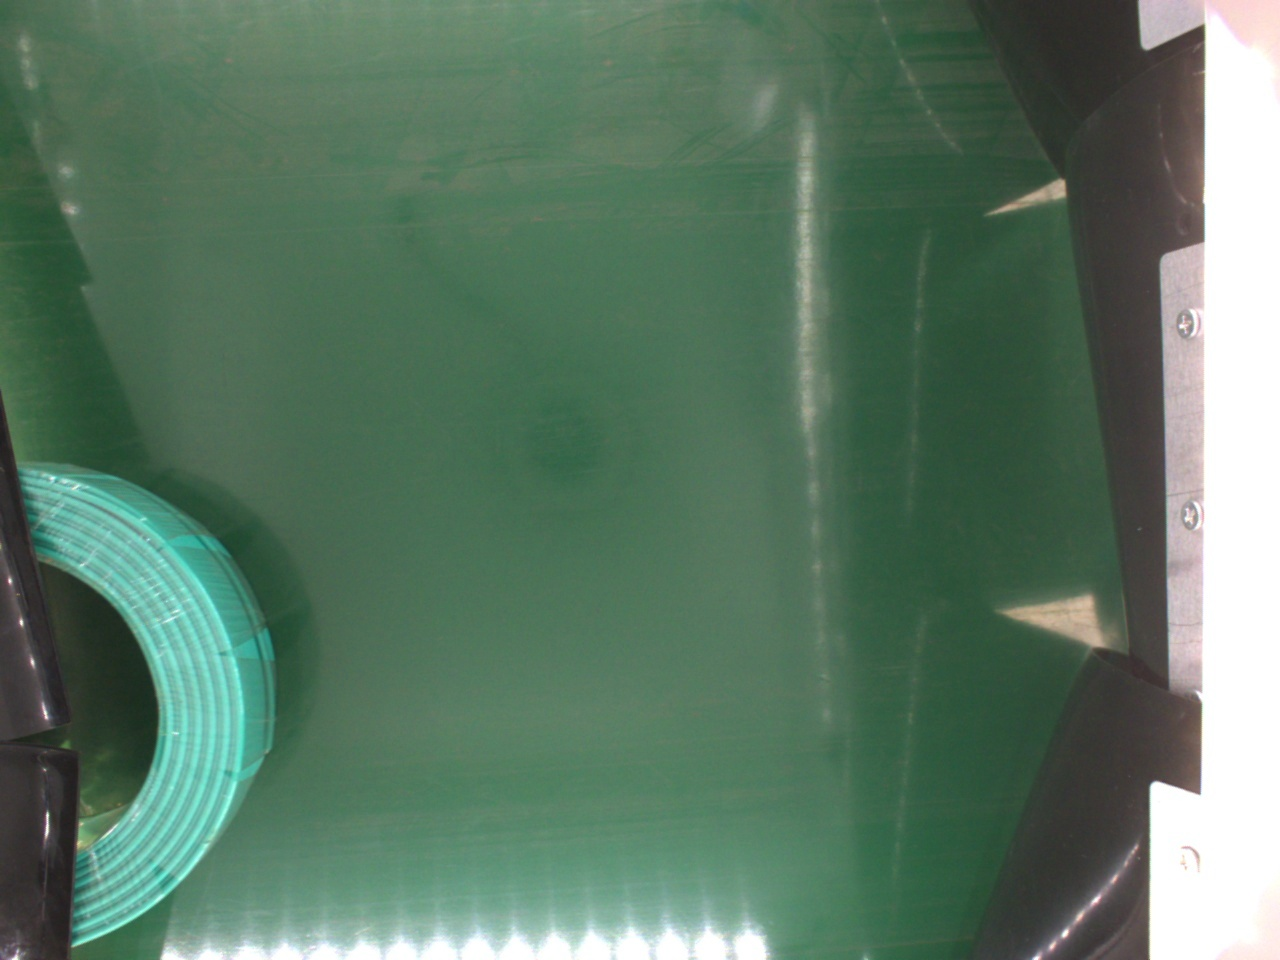green: (14, 458, 275, 950)
